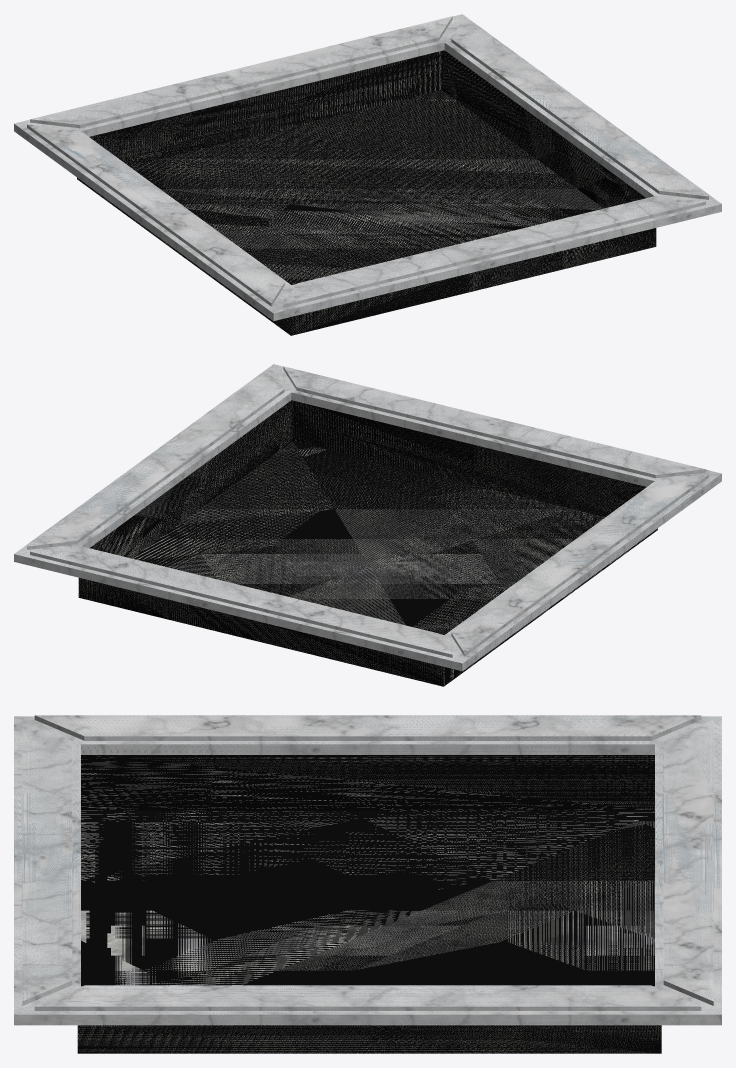
File: MirrorFrame.fbx
3 renders of one model, top to bottom at view 1: azimuth 30°, elevation 25°; view 2: azimuth 150°, elevation 25°; view 3: azimuth 270°, elevation 25°, orthographic. The views are drawn at different scales.
Parts seen in each view (by area): view 1: Model; view 2: Model; view 3: Model.
Part boxes in pixels (bbox=[...]): Model: bbox=[14, 14, 721, 335]; Model: bbox=[14, 364, 721, 686]; Model: bbox=[14, 715, 721, 1053].
Bounding box in the file's own units: 209 × 23.51 × 210.
